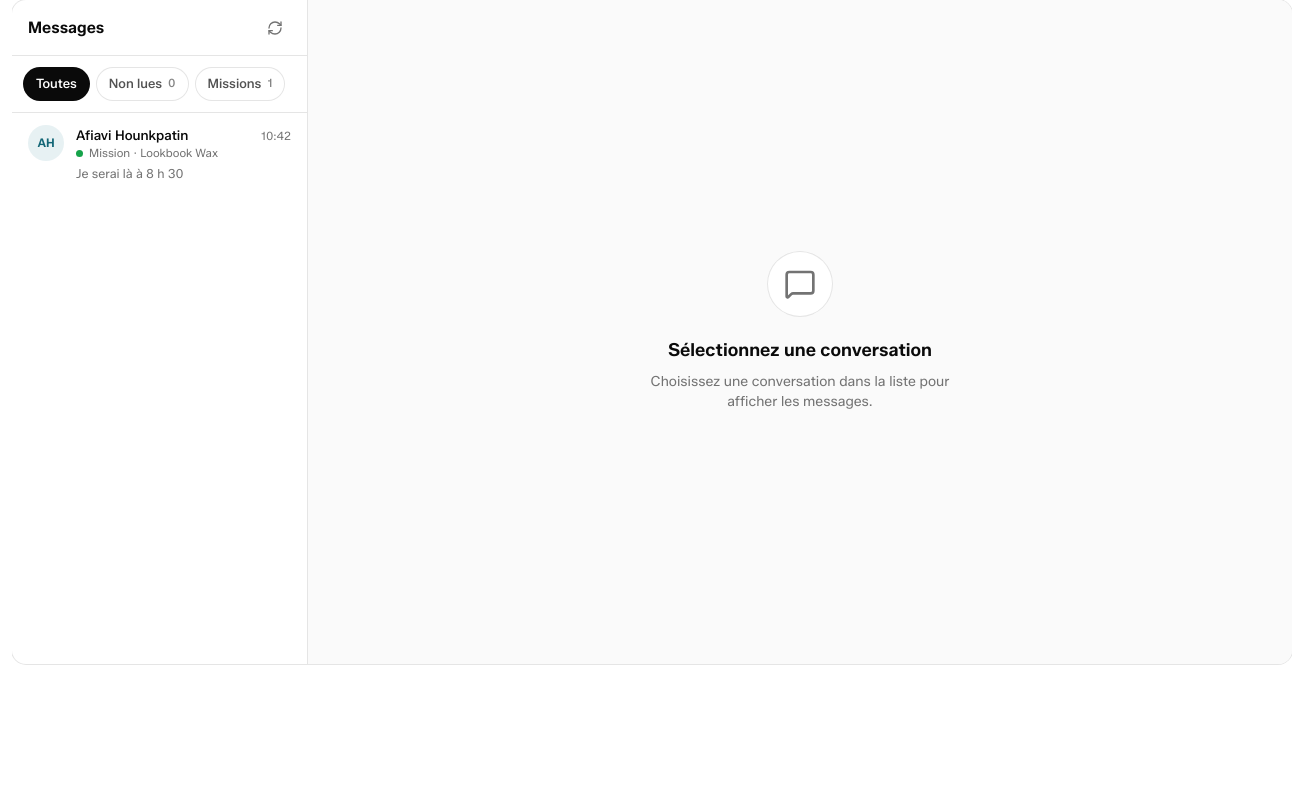
MessagesWorkspace — desktop › Producteur : ligne de délai de réponse chargée pour la conversation ouverte
This screenshot has width=1292, height=800.
Click the button with test id "conversation-item": [160, 154] box [12, 113, 307, 195]
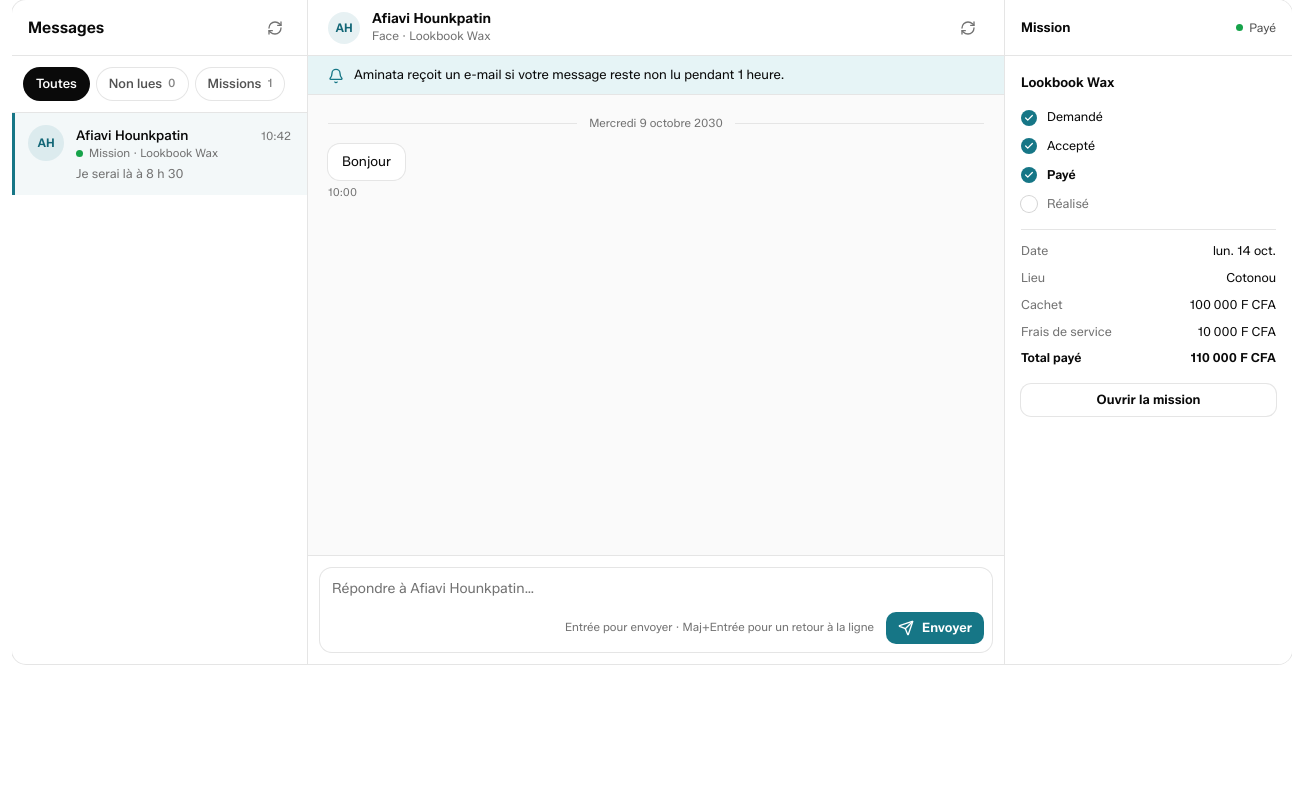
Check: the message with test id "face-response-notice" shows "Aminata reçoit un e-mail", box [354, 66, 784, 82]
